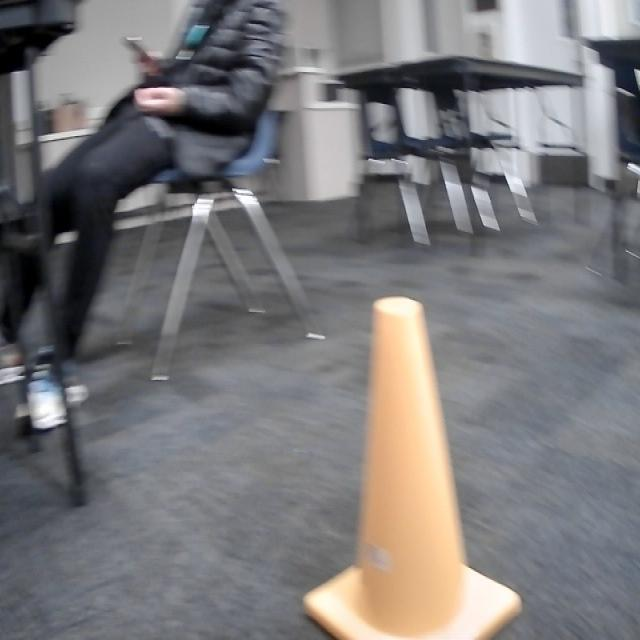cone: (298, 295, 524, 640)
